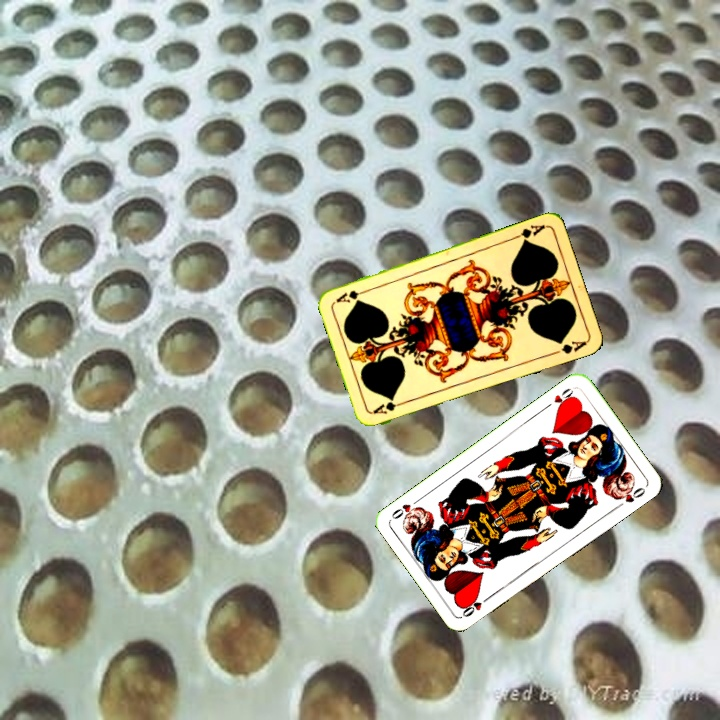GA: (509, 220, 548, 245), (369, 396, 409, 417)
HO: (458, 591, 494, 620), (541, 383, 577, 411)
